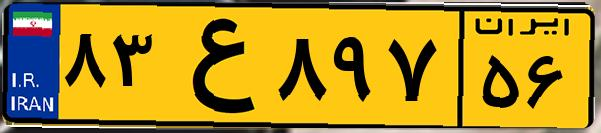3: (110, 28, 158, 98)
5: (475, 38, 525, 113)
6: (525, 38, 570, 115)
7: (385, 28, 445, 110)
8: (270, 28, 330, 110), (57, 26, 110, 100)
9: (330, 28, 385, 110)
ع: (158, 12, 270, 120)
